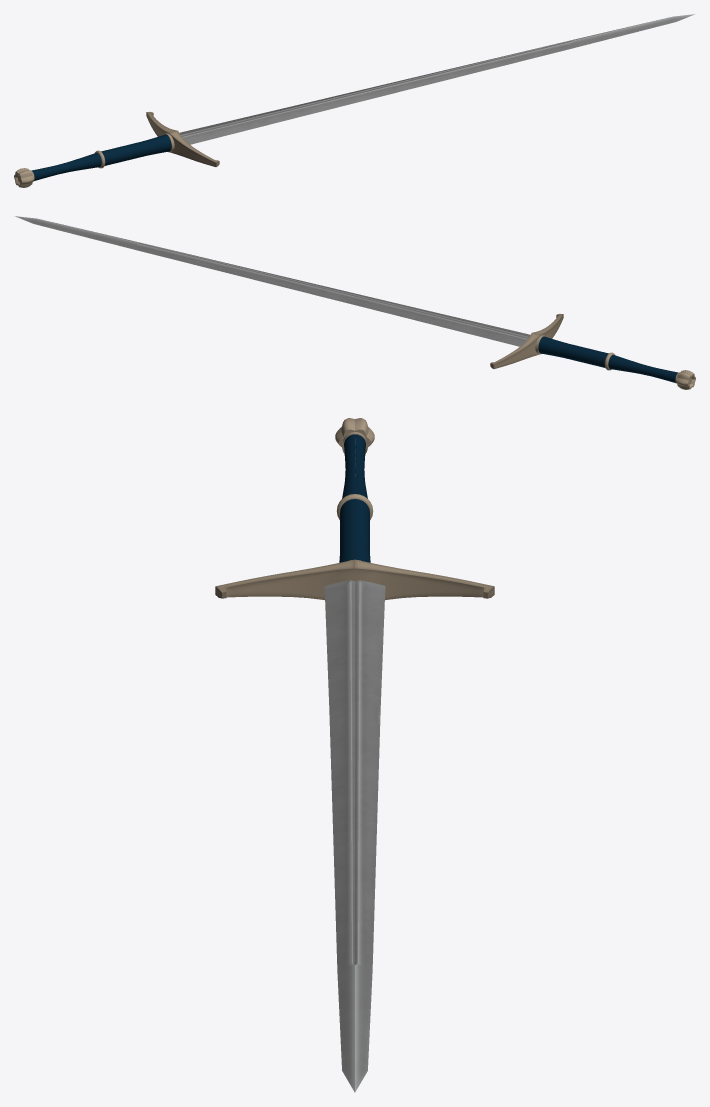
The model's file is 15th_century_long_sword.glb.
3 views of the same model, one above another, from view 1: azimuth 30°, elevation 25°; view 2: azimuth 150°, elevation 25°; view 3: azimuth 270°, elevation 25° (orthographic). The views are drawn at different scales.
Parts seen in each view (by area): view 1: Sword_Long_A.001; view 2: Sword_Long_A.001; view 3: Sword_Long_A.001.
Part boxes in pixels (bbox=[...]): Sword_Long_A.001: bbox=[14, 14, 695, 187]; Sword_Long_A.001: bbox=[14, 216, 695, 389]; Sword_Long_A.001: bbox=[215, 418, 494, 1092].
Bounding box in the file's own units: 1.32 × 0.0357 × 0.2358.
Materials: 1 (1 with a texture image).
